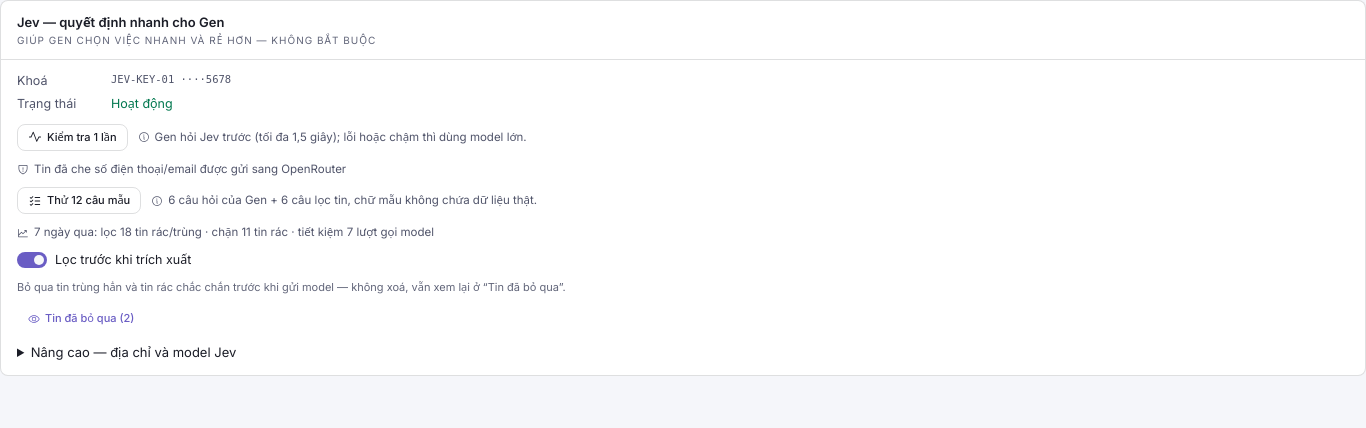
Test: v0.1.55 — "Thử 12 câu mẫu" › thiếu khoá (409): chuỗi thân thiện + "Chi tiết kỹ thuật", không render object
Click the button "Thử 12 câu mẫu".
click(79, 201)  # box [17,187,141,214]
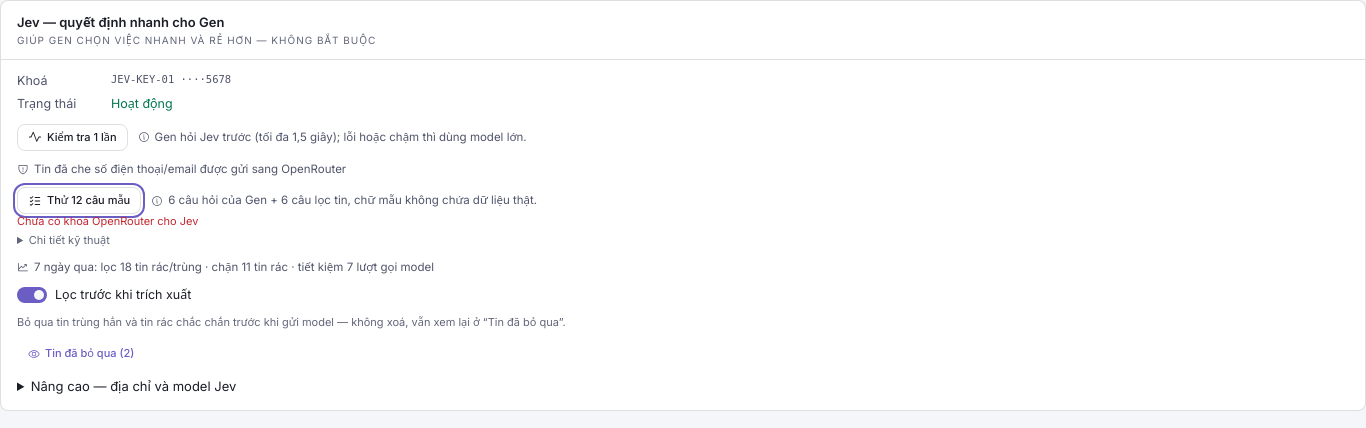
Expected: the message "Chưa có khoá OpenRouter cho Jev Chi tiết kỹ thuật" is shown, [17,214,198,247]
